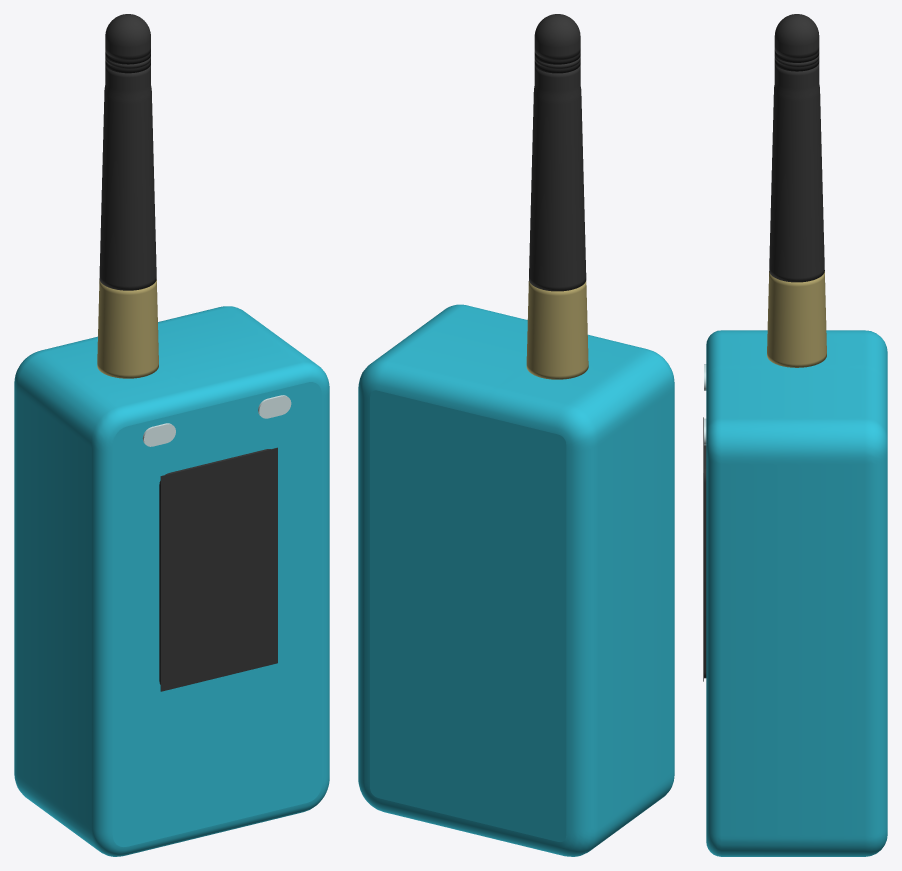
The model's file is heltec-mesh-node-t114-case.glb.
The picture shows the model from 3 angles, left to right: view 1: azimuth 30°, elevation 25°; view 2: azimuth 150°, elevation 25°; view 3: azimuth 270°, elevation 25°; orthographic projection. The views are drawn at different scales.
Parts seen in each view (by area): view 1: Body, Screen, Antenna_1, Antenna_0, Antenna_5, Face_dcf0f2; view 2: Body, Antenna_1, Antenna_0, Antenna_5; view 3: Body, Antenna_1, Antenna_0, Antenna_5, Face_353535.
Part boxes in pixels (x1,y1,x2,y2): Body: [14, 306, 329, 856]; Screen: [160, 447, 277, 691]; Antenna_1: [99, 65, 156, 290]; Antenna_0: [97, 279, 158, 378]; Antenna_5: [105, 14, 150, 59]; Face_dcf0f2: [142, 395, 291, 446]; Body: [358, 304, 674, 856]; Antenna_1: [529, 65, 586, 291]; Antenna_0: [526, 281, 588, 379]; Antenna_5: [534, 14, 580, 60]; Body: [706, 330, 887, 856]; Antenna_1: [769, 63, 824, 282]; Antenna_0: [767, 271, 826, 367]; Antenna_5: [774, 14, 819, 58]; Face_353535: [704, 445, 706, 678].
Size of the model in its own units: 0.035 by 0.1131 by 0.0244.
